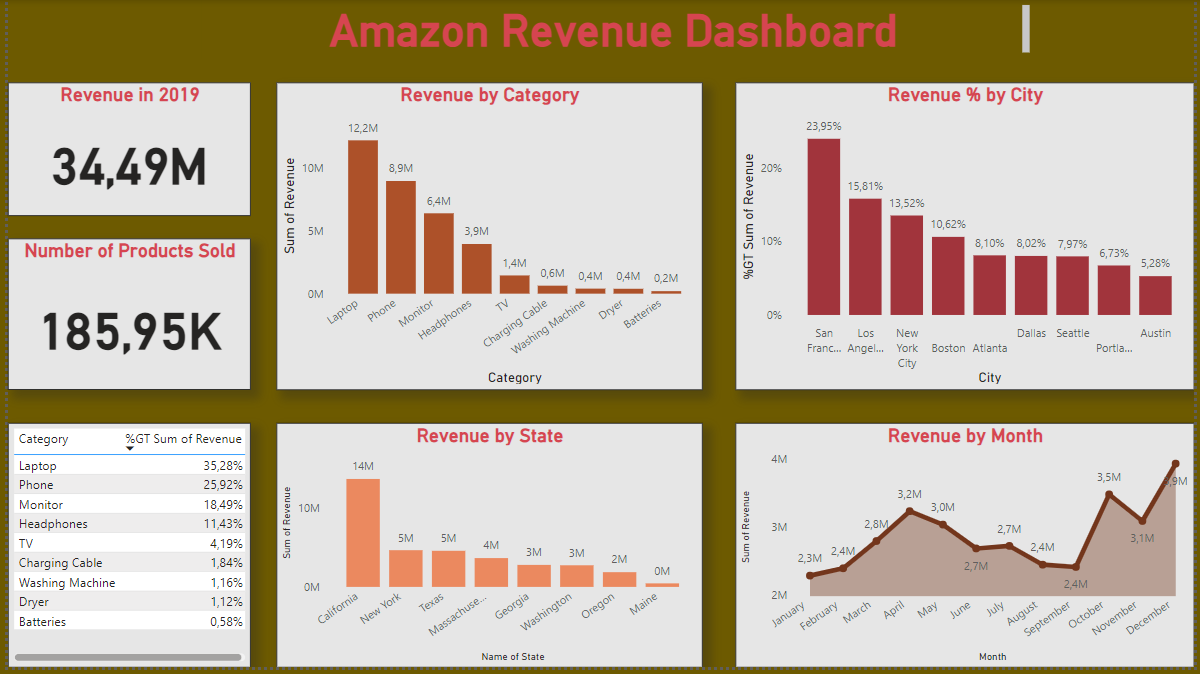

The page's visual inventory and layout, read from the dashboard file:
{"tool":"powerbi","page":{"name":"Amazon Revenue Dashboard","canvas":[1280,720],"ordinal":1},"visuals":[{"type":"card","title":"Revenue in 2019","fields":{"Values":["Sum(AllYearSales.Total sales)"]},"box":[0,89.1,262.3,144.1],"z":0},{"type":"clusteredColumnChart","title":"Revenue by State","fields":{"Y":["Sum(AllYearSales.Revenue)"],"Category":["AllYearSales.Name of State"]},"box":[289.8,456.6,459.9,263.9],"z":1},{"type":"clusteredColumnChart","title":"Revenue % by City","fields":{"Y":["Sum(AllYearSales.Revenue)"],"Category":["AllYearSales.City"]},"box":[785.3,89.1,495.5,331.9],"z":2},{"type":"clusteredColumnChart","title":"Revenue by Category","fields":{"Y":["Sum(AllYearSales.Revenue)"],"Category":["AllYearSales.Category"]},"box":[289.8,89.1,459.9,331.9],"z":3},{"type":"lineChart","title":"Revenue by Month","fields":{"Y":["Sum(AllYearSales.Revenue)"],"Category":["AllYearSales.Order Date.Variation.Date Hierarchy.Month"]},"box":[785.3,456.6,495.5,263.9],"z":4},{"type":"tableEx","fields":{"Values":["AllYearSales.Category","Sum(AllYearSales.Revenue)"]},"box":[0,456.6,262.3,263.9],"z":5},{"type":"card","title":"Number of Products Sold","fields":{"Values":["CountNonNull(AllYearSales.Product)"]},"box":[0,257.5,262.3,163.5],"z":6},{"type":"textbox","box":[208.9,0,898.7,63.1],"z":7}]}

Visuals, with their boxes in screenshot pixels (x1, y1, x2, y2), scaled from the page's 1280x720 canvas onto the 1200x674 screenshot:
"Revenue in 2019" card: crop(0, 83, 246, 218)
"Revenue by State" clusteredColumnChart: crop(272, 427, 703, 673)
"Revenue % by City" clusteredColumnChart: crop(736, 83, 1199, 394)
"Revenue by Category" clusteredColumnChart: crop(272, 83, 703, 394)
"Revenue by Month" lineChart: crop(736, 427, 1199, 673)
tableEx - AllYearSales.Category x Sum(AllYearSales.Revenue): crop(0, 427, 246, 673)
"Number of Products Sold" card: crop(0, 241, 246, 394)
textbox: crop(196, 0, 1038, 59)
